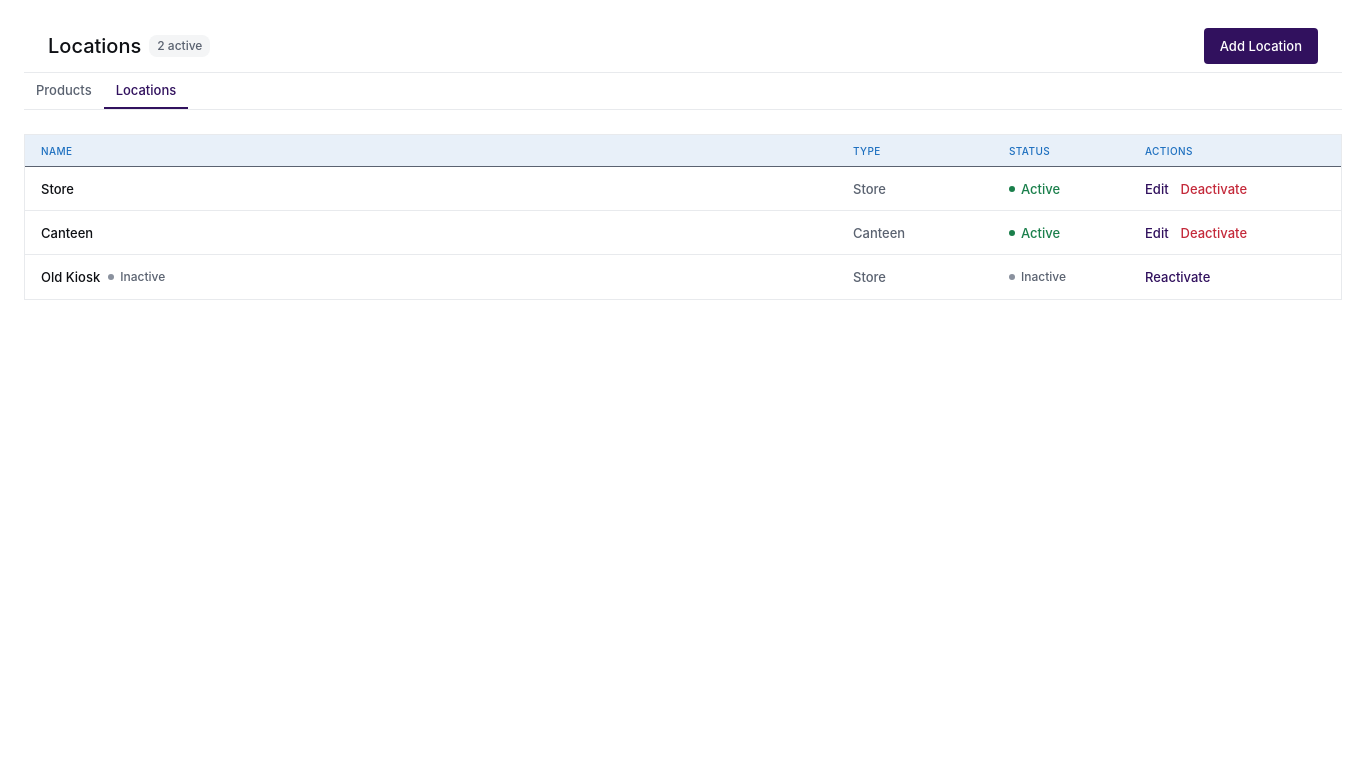
/admin/catalog — Locations tab › surfaces the domain's 409 reason when deactivation is blocked
The image size is (1366, 768).
Click the tab "Locations" at {"x": 146, "y": 91}, box [104,73,188,109]
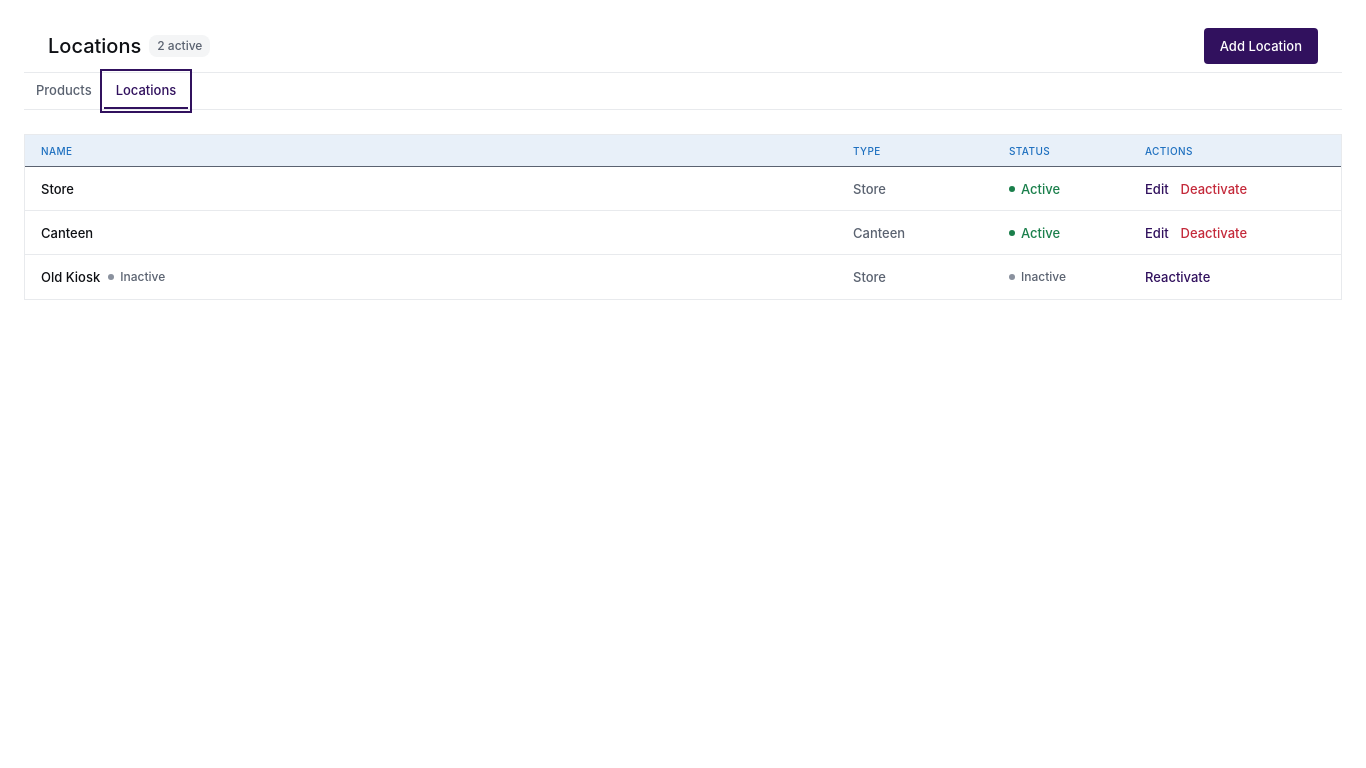
Click the 2nd button "Deactivate" at {"x": 1214, "y": 232}, box [1181,224,1247,240]
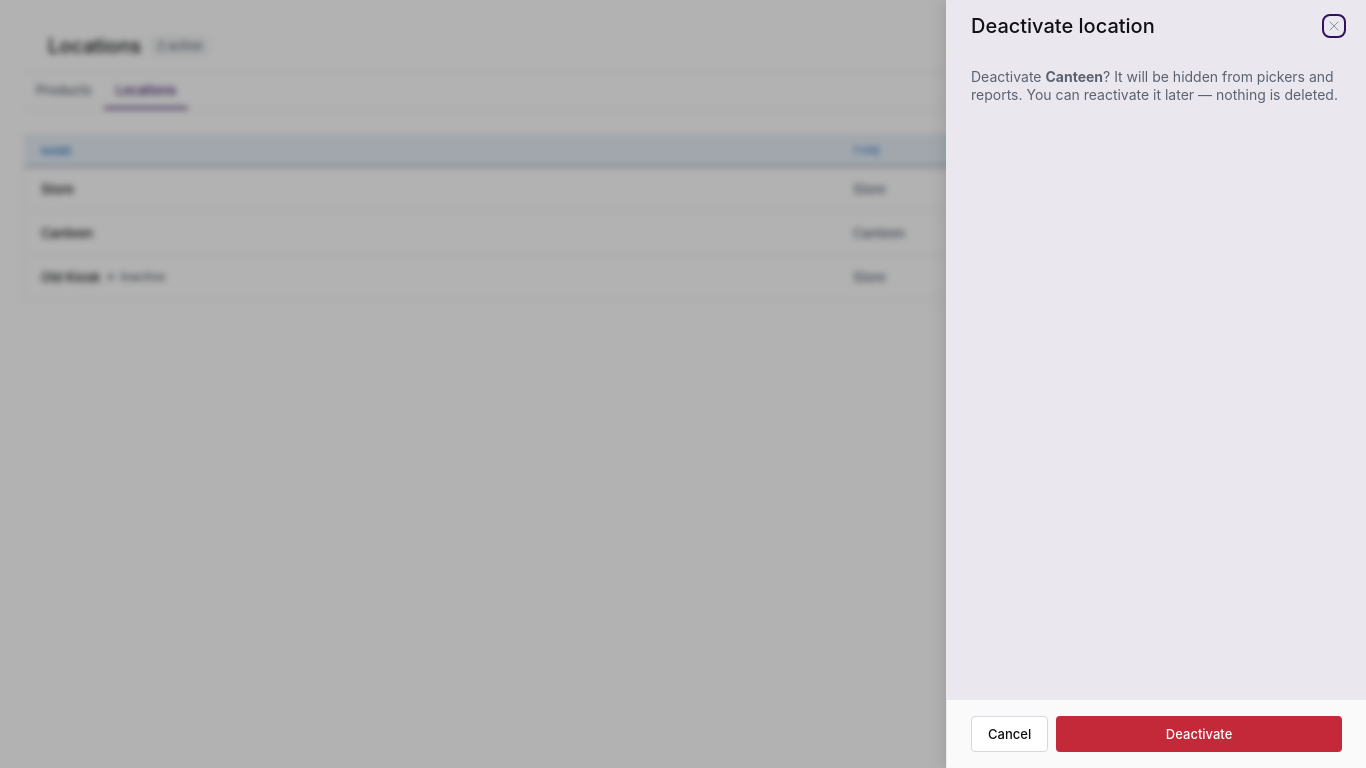
Click the button "Deactivate" at {"x": 1199, "y": 734}, box [1056,716,1342,752]
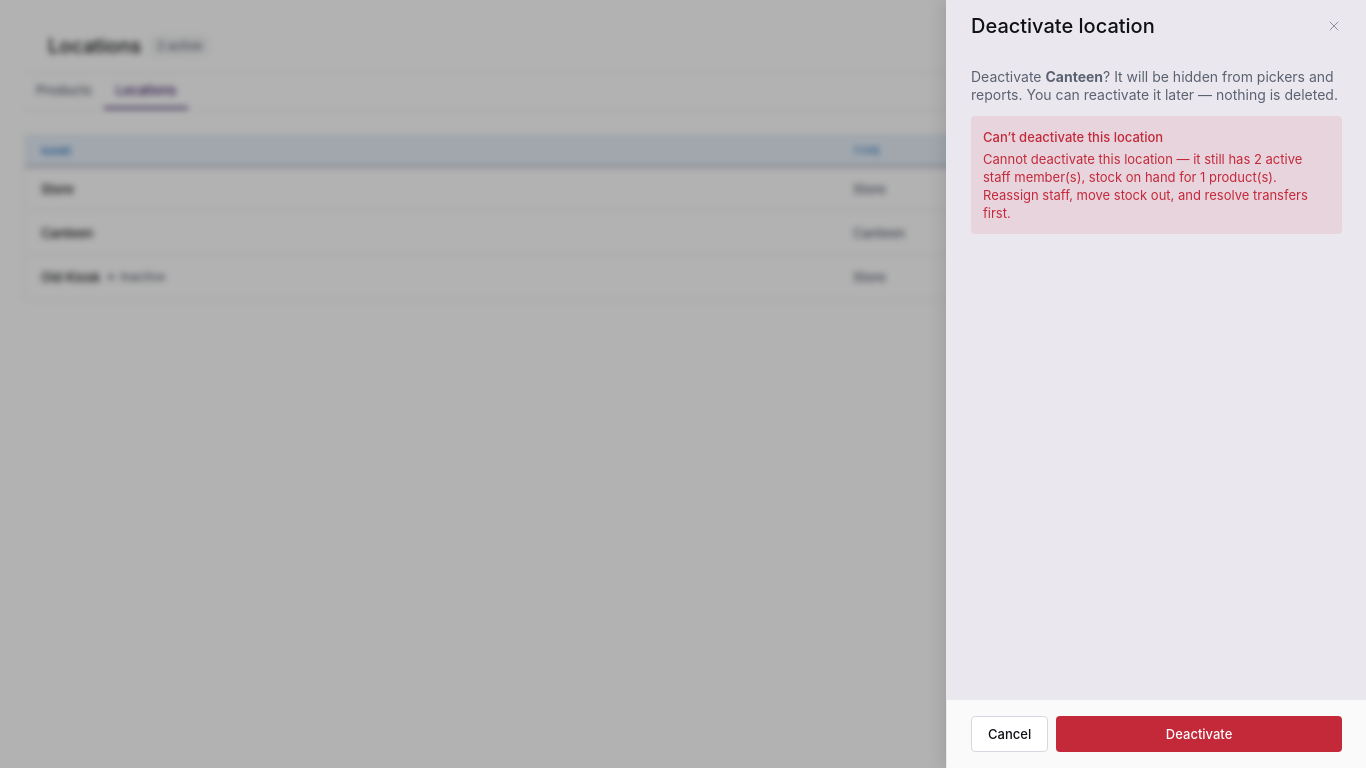
Result: the text "Cannot deactivate this location — it still has 2 active staff member(s), stock on hand for 1 product(s). Reassign staff," is shown at [983,151,1308,221]
